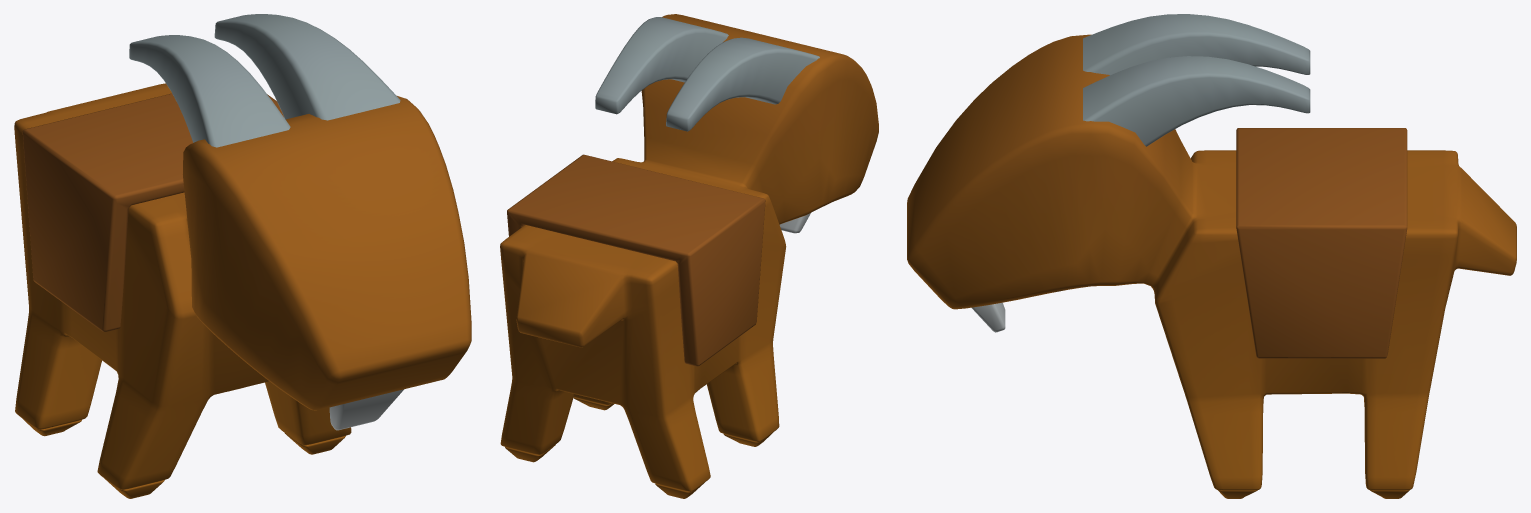
Rendered from MedievelToy.fbx.
3 renders of one model, left to right at view 1: azimuth 30°, elevation 25°; view 2: azimuth 150°, elevation 25°; view 3: azimuth 270°, elevation 25°, orthographic. The views are drawn at different scales.
Visible parts, largest first — view 1: Group1; view 2: Group1; view 3: Group1.
Part boxes in pixels (x1=…): Group1: x1=14, y1=14, x2=471, y2=498; Group1: x1=500, y1=14, x2=878, y2=498; Group1: x1=907, y1=14, x2=1516, y2=498.
Size of the model in its own units: 0.1865 by 0.3418 by 0.4604.
1 material, 1 textured.
